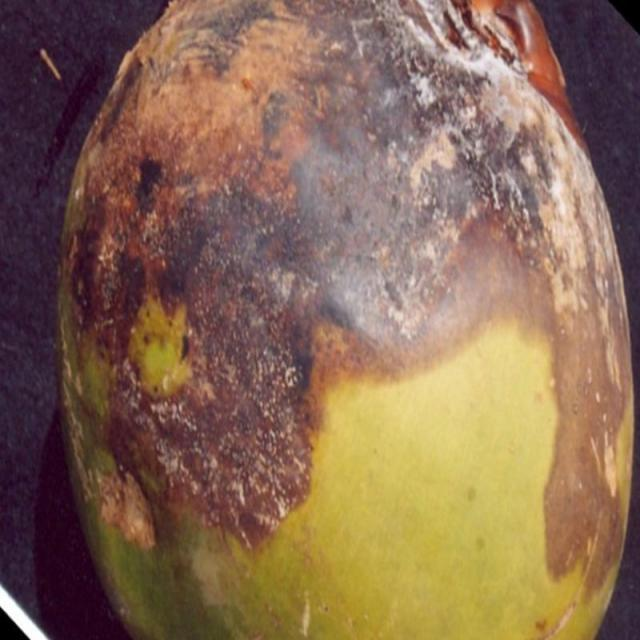damaged: (54, 0, 637, 639)
